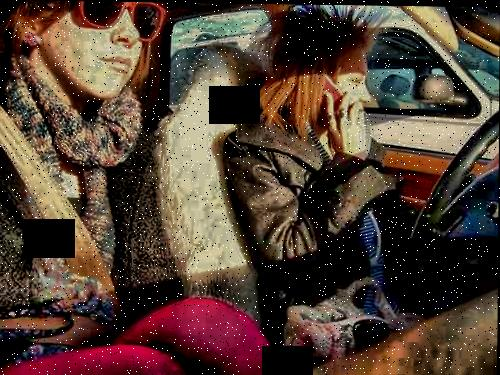seatbelt: (7, 116, 132, 315)
